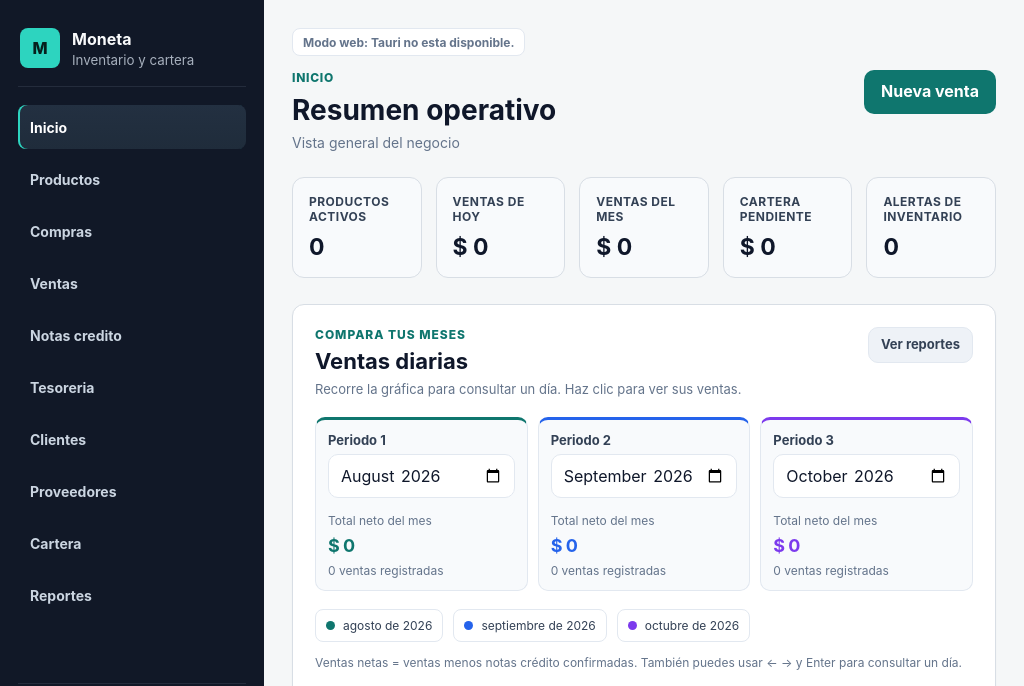
Scenario: App navigation › returns to the dashboard when the dashboard item is clicked
Click the button "Ventas" at (132, 283), box x1=18 y1=261 x2=246 y2=305
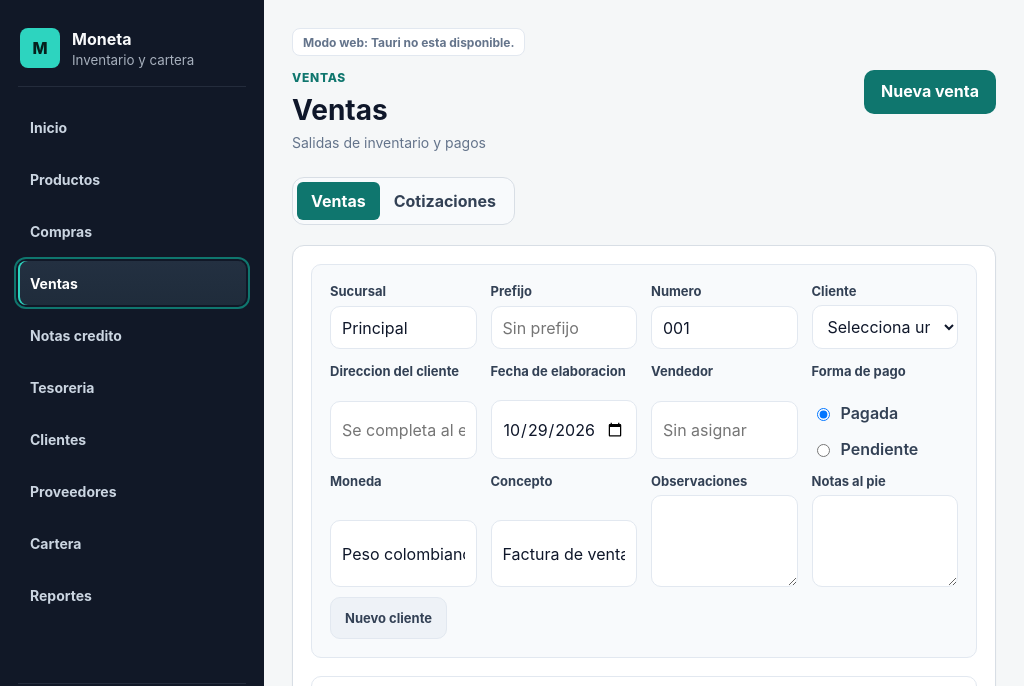
Check: the heading "Ventas" is shown, box x1=292 y1=93 x2=388 y2=127
Click the button "Inicio" at (132, 127), box x1=18 y1=105 x2=246 y2=149
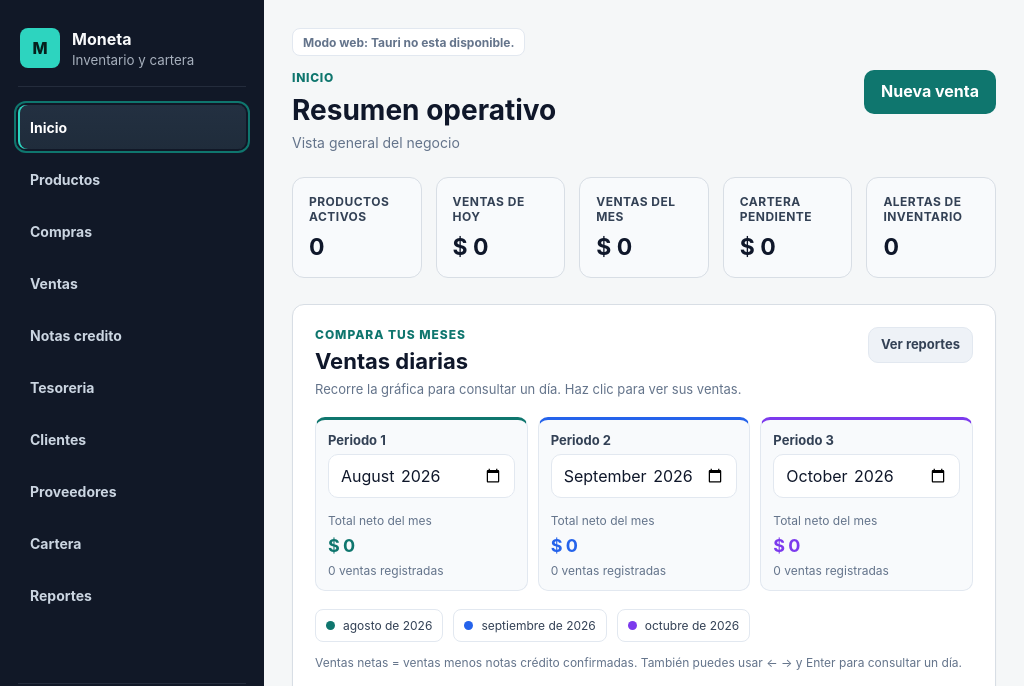
Check: the heading "Resumen operativo" is shown, box x1=292 y1=93 x2=556 y2=127
